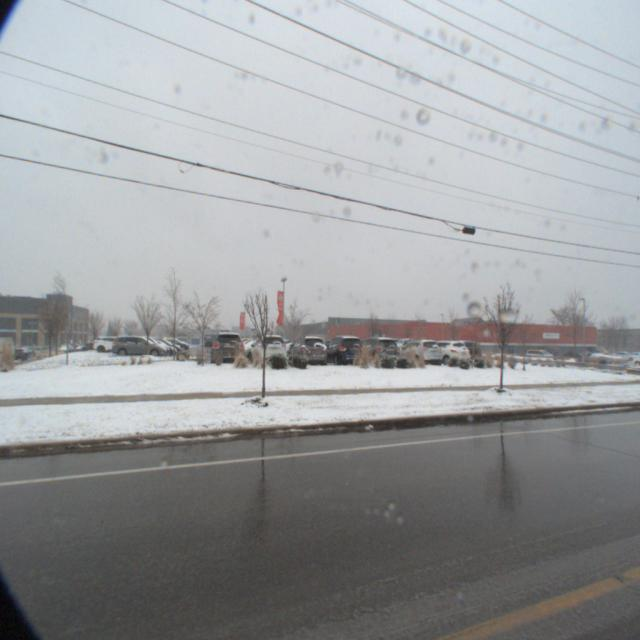Car: (414, 338, 474, 368), (317, 334, 365, 370), (246, 332, 288, 372), (285, 333, 329, 371), (352, 334, 400, 368), (393, 337, 445, 368), (208, 330, 242, 370), (101, 335, 159, 358), (82, 336, 132, 356)
